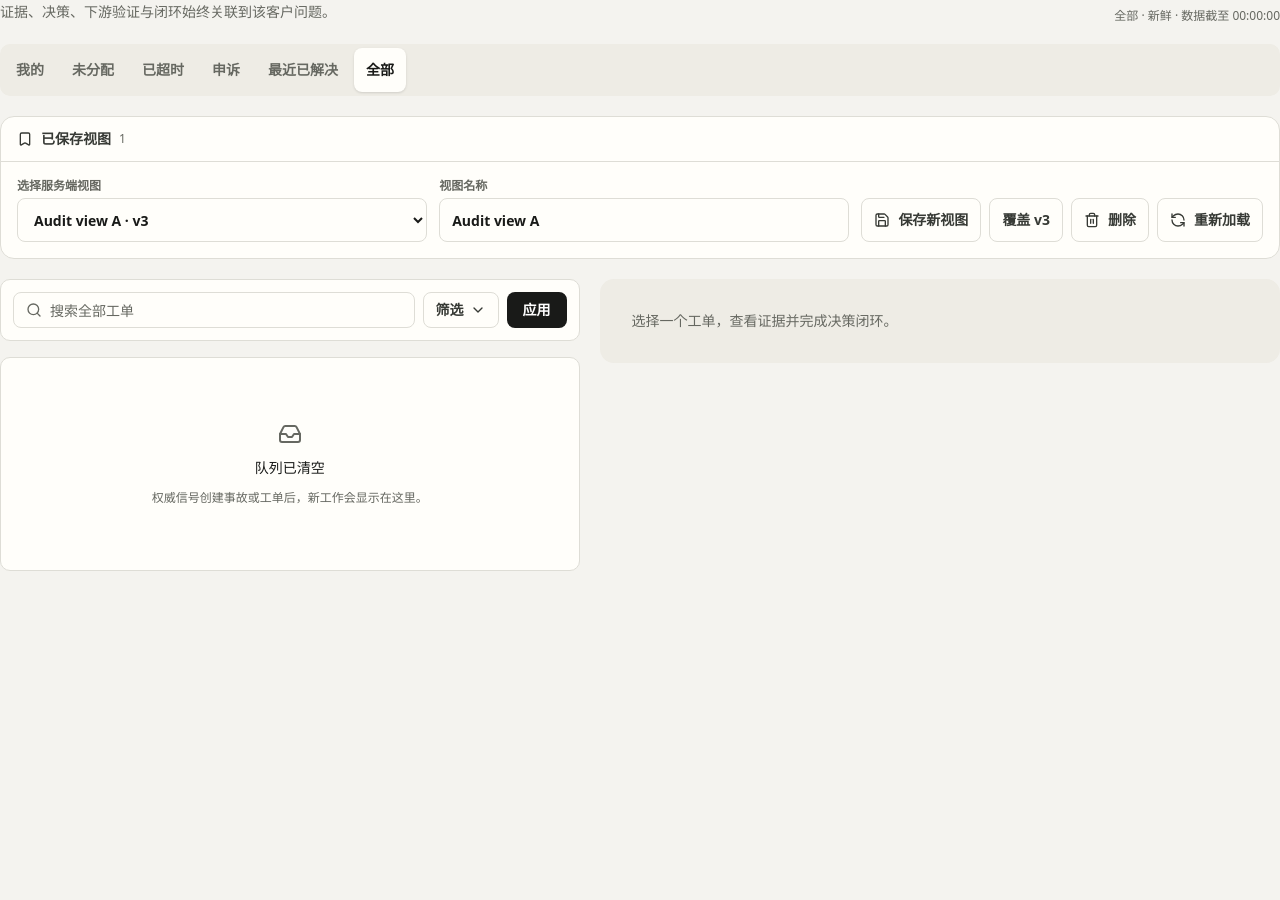
Saved Views through the Case workspace › describes only the current operator's private view in zh confirmations
The width and height of the screenshot is (1280, 900).
Click the button "覆盖 v3": (1026, 220) [989,198,1063,242]
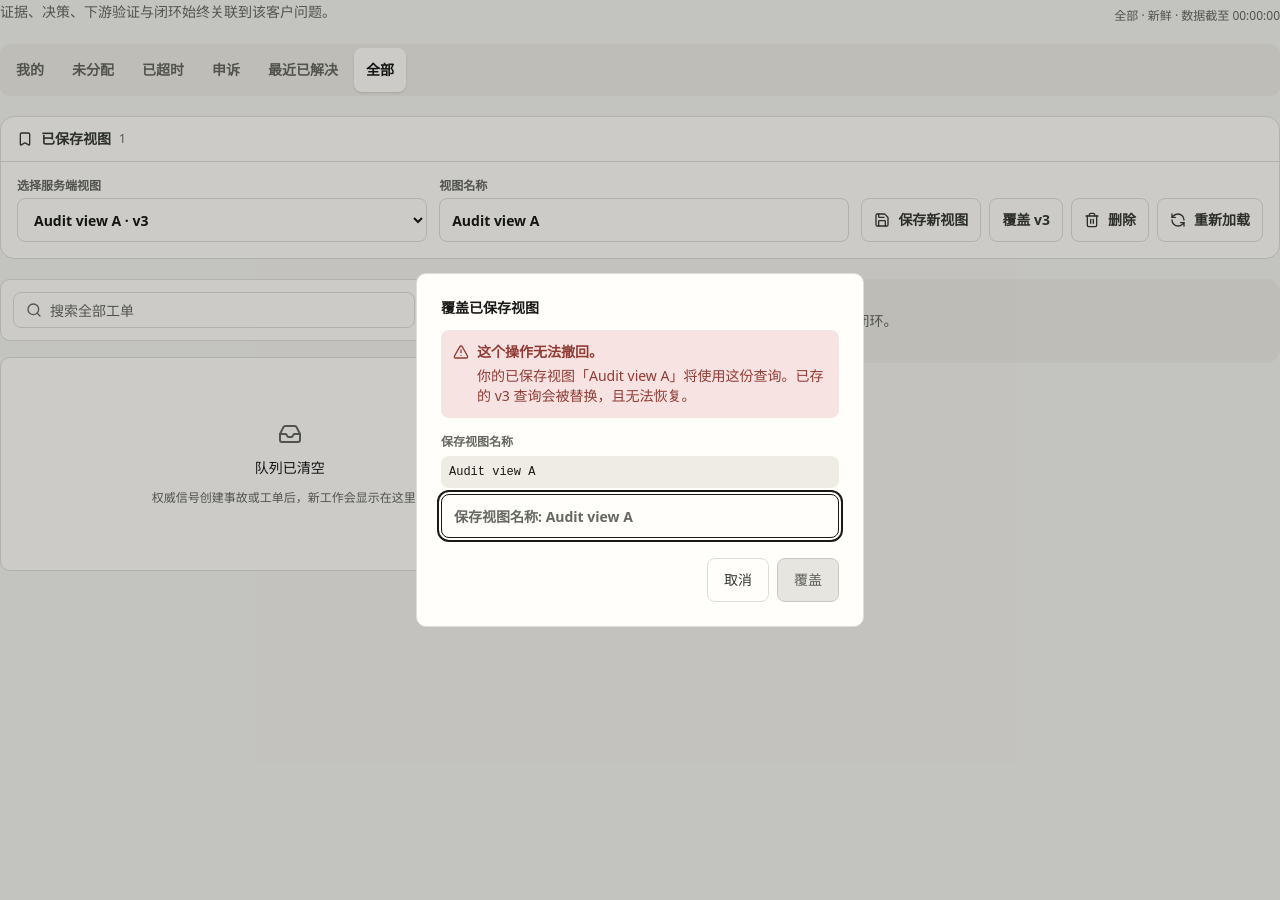
Check: the dialog shows "覆盖已保存视图", box [441,298,539,317]
Check: the dialog shows "你的已保存视图「Audit view A」将使用这份查询。", box [477,366,824,405]
Click the button "取消": (738, 580) [707,558,769,602]
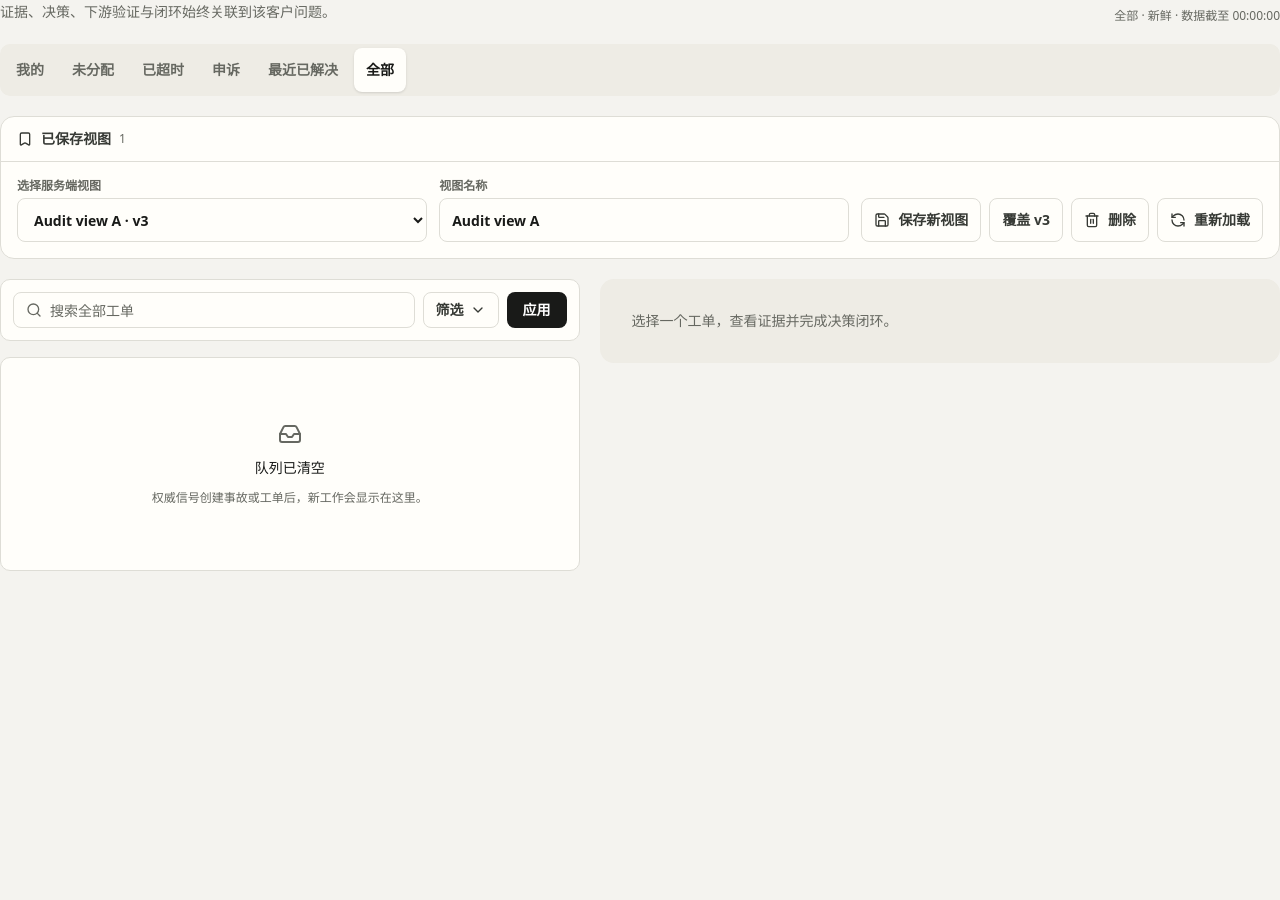
Click the button "删除": (1110, 220) [1071,198,1149,242]
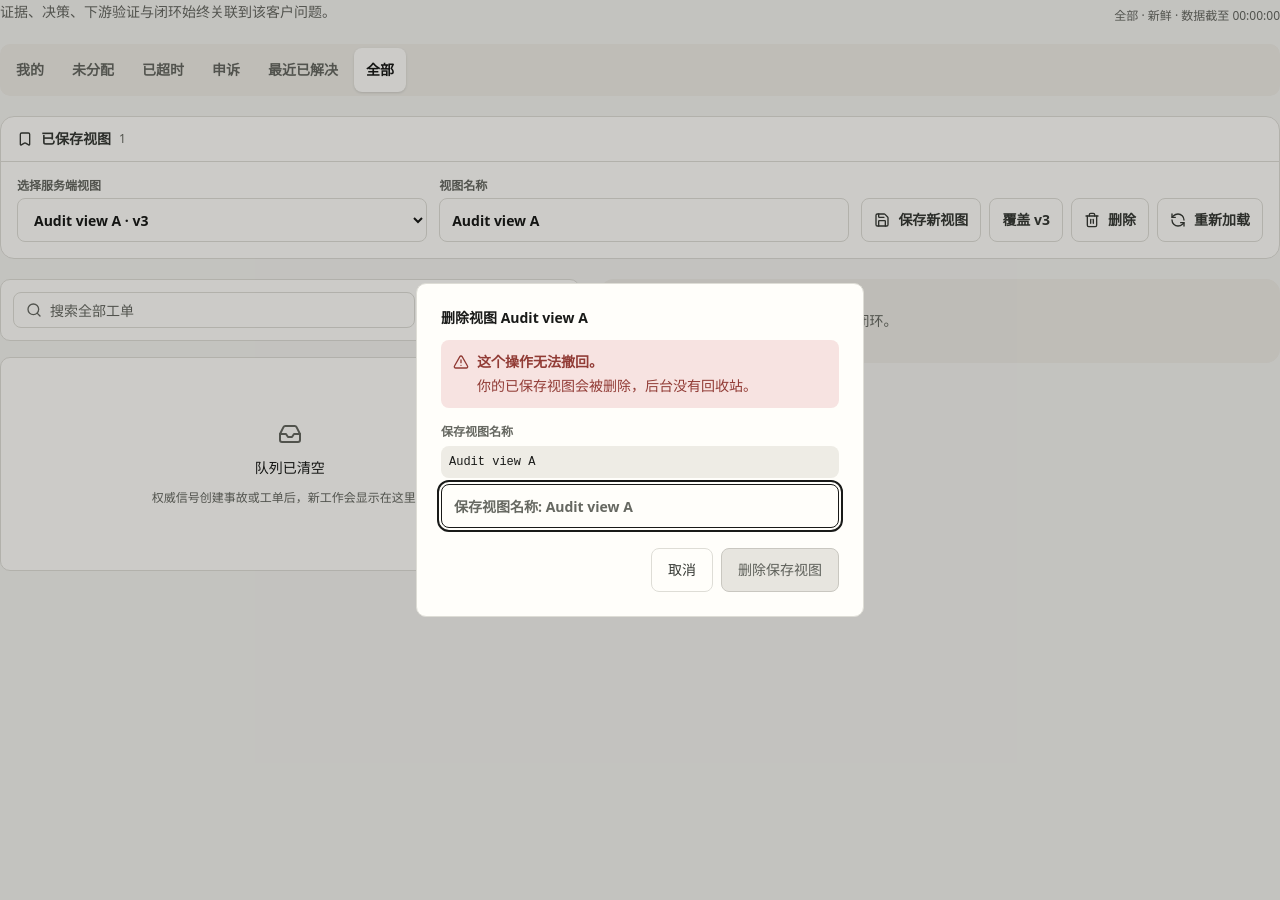
Check: the dialog shows "你的已保存视图会被删除，后台没有回收站。", box [477,376,757,395]
